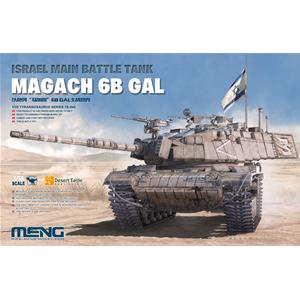Battle Tank: (86, 119, 293, 240)
